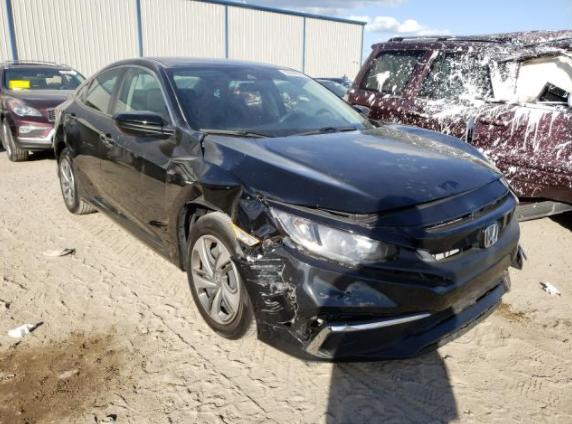Back-door: (61, 64, 124, 204)
Back-wheel: (58, 147, 100, 215)
Back-window: (86, 68, 120, 114), (77, 83, 89, 103)
Fender: (166, 123, 288, 272)
Front-bumper: (231, 181, 523, 363)
Front-door: (100, 64, 179, 252)
Front-wheel: (186, 210, 254, 341)
Front-window: (113, 68, 174, 126)
Grille: (417, 206, 517, 263)
Headlight: (269, 207, 400, 273)
Hood: (202, 120, 502, 214)
Mirror: (116, 110, 174, 140), (351, 104, 373, 119)
Quarter-panel: (53, 100, 70, 161)
Rocker-panel: (75, 187, 172, 264)
Roof: (132, 57, 299, 71)
Windshield: (166, 69, 377, 135)
